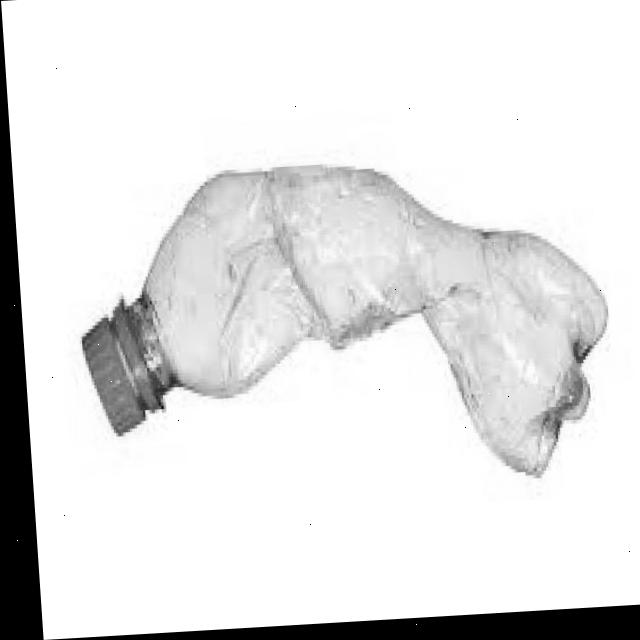bottle: (47, 86, 640, 561)
